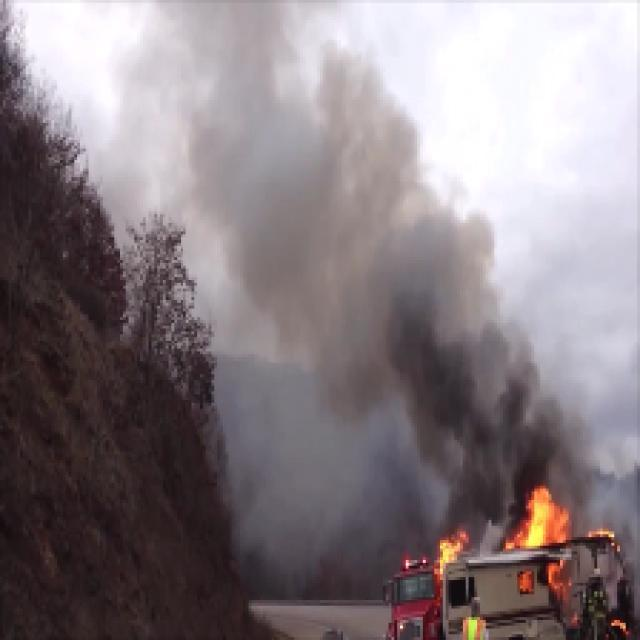Fire: (514, 489, 576, 549), (436, 530, 474, 566)
Smoke: (116, 0, 497, 296), (336, 306, 582, 472)
